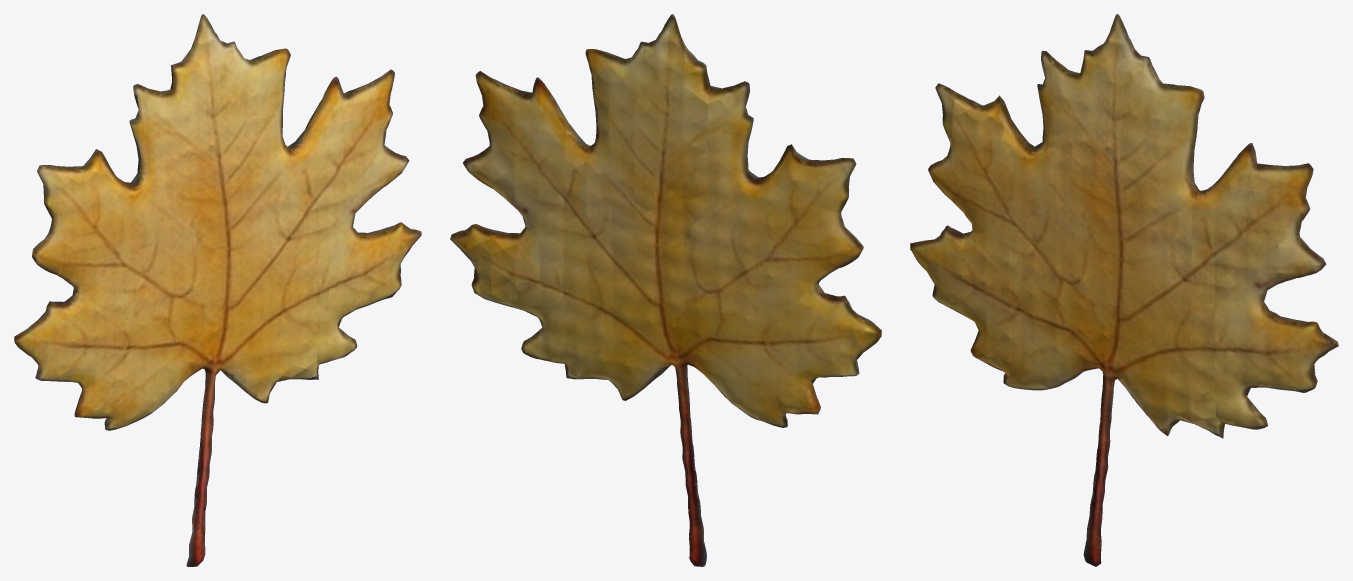
Rendered from leaf.glb.
3 renders of one model, left to right at view 1: azimuth 30°, elevation 25°; view 2: azimuth 150°, elevation 25°; view 3: azimuth 330°, elevation 25°, orthographic.
Visible parts, largest first — view 1: world; view 2: world; view 3: world.
Part boxes in pixels (x1,y1,x2,y2): world: (14, 14, 421, 566); world: (450, 14, 881, 566); world: (910, 14, 1338, 566).
Size of the model in its own units: 0.7697 by 0.9631 by 0.0524.
1 material, 1 textured.
